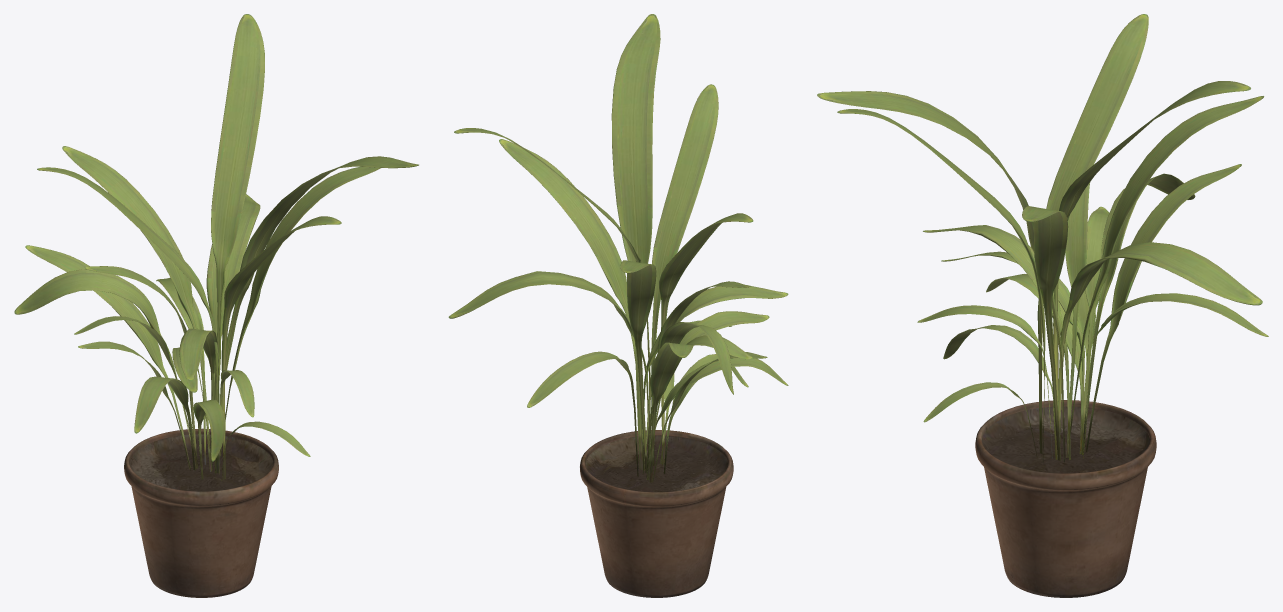
File: veg_palm.glb
The picture shows the model from 3 angles, left to right: view 1: azimuth 30°, elevation 25°; view 2: azimuth 150°, elevation 25°; view 3: azimuth 270°, elevation 25°; orthographic projection. The views are drawn at different scales.
Parts seen in each view (by area): view 1: palm; view 2: palm; view 3: palm.
Part boxes in pixels (bbox=[...]): palm: bbox=[14, 14, 418, 597]; palm: bbox=[448, 14, 788, 597]; palm: bbox=[817, 14, 1268, 597].
Bounding box in the file's own units: 1.28 × 1.9 × 1.4.
Materials: 1 (1 with a texture image).
